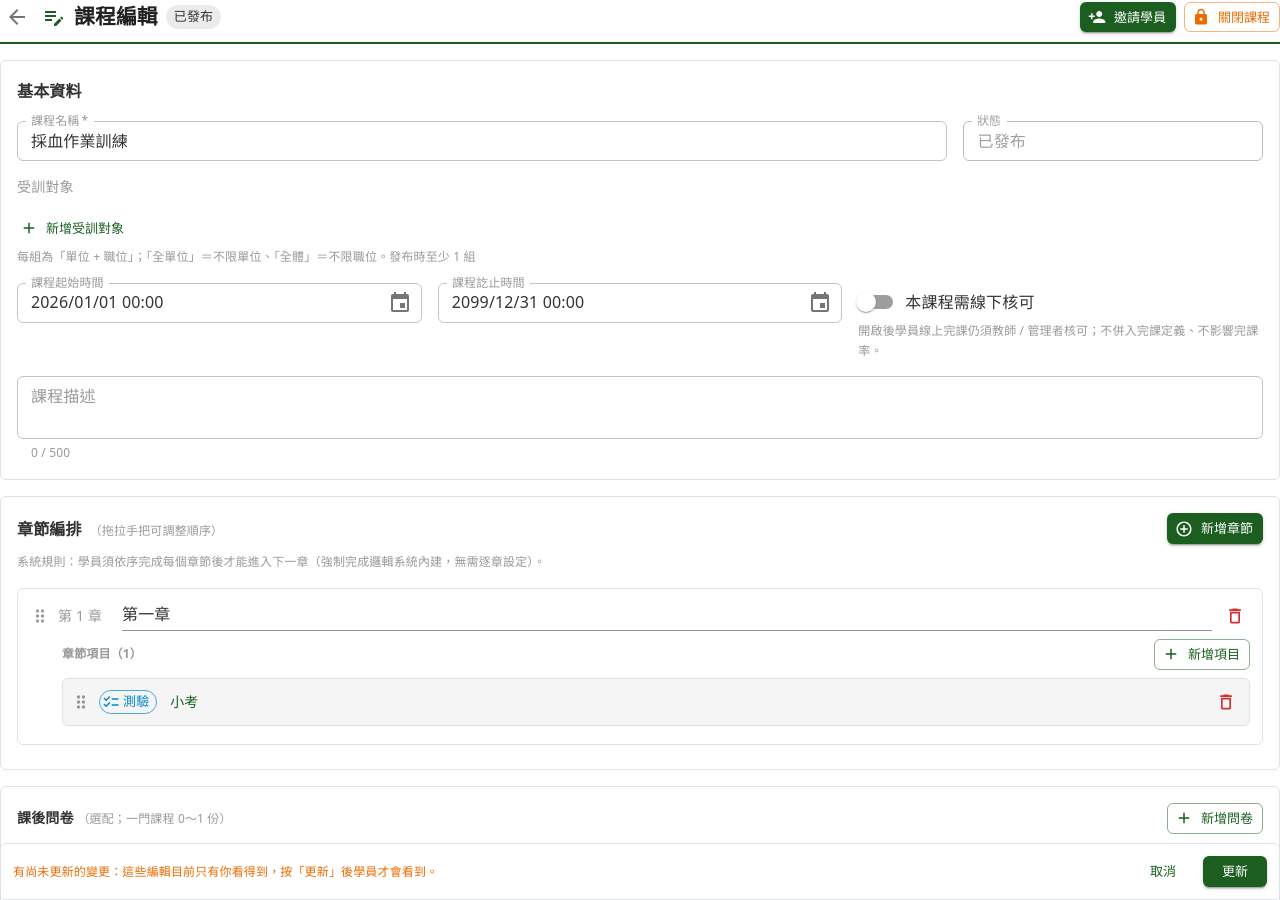
Scenario: 重測視窗對待生效要求的說明依儲存路徑而定（#767 A1） › 改題時：說明「僅儲存」不會取消，要到測驗設定
The image size is (1280, 900).
Click the button "小考" at (184, 701), box [165,688,1203,716]
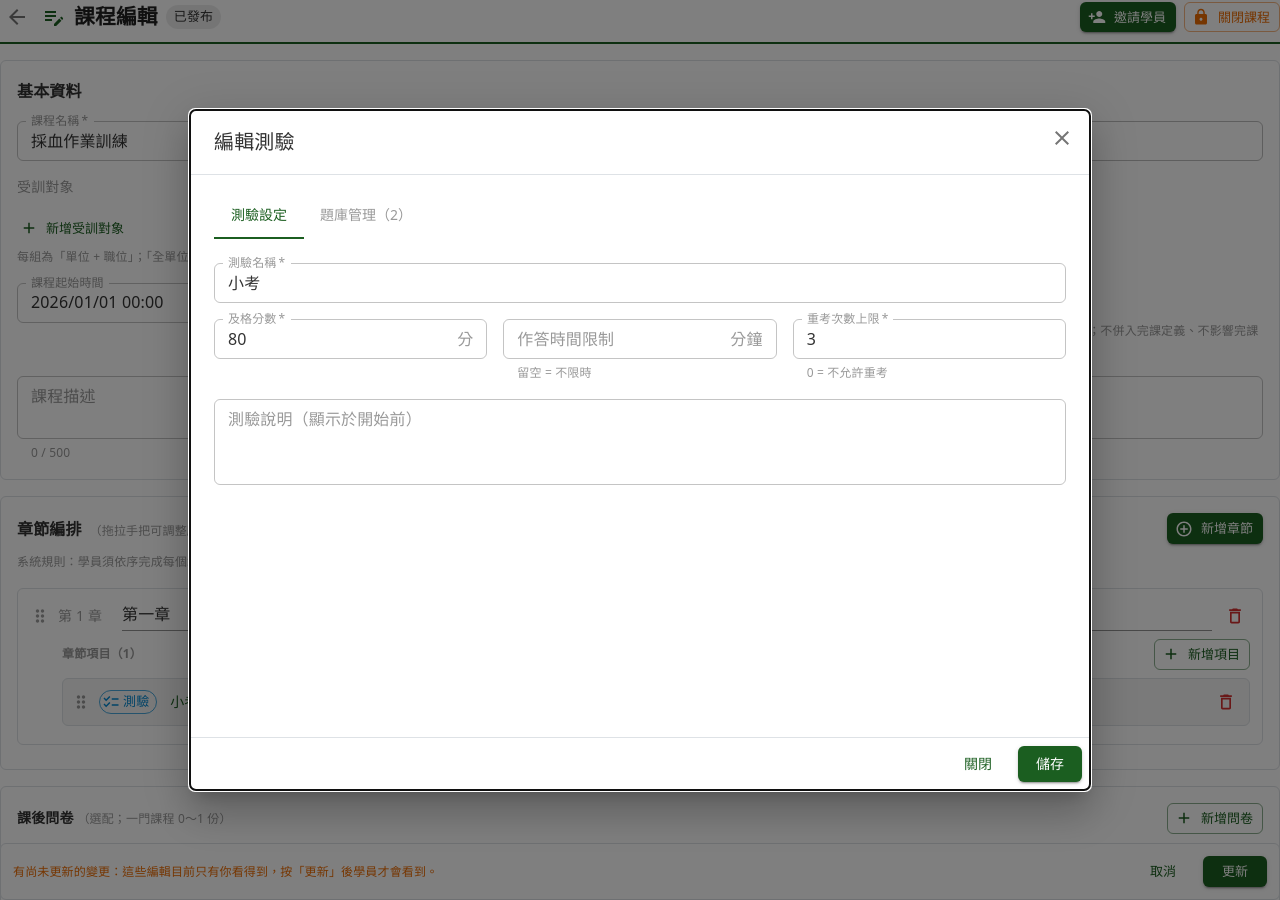
Click the tab "題庫管理（2）" at (366, 215), box [304,191,428,239]
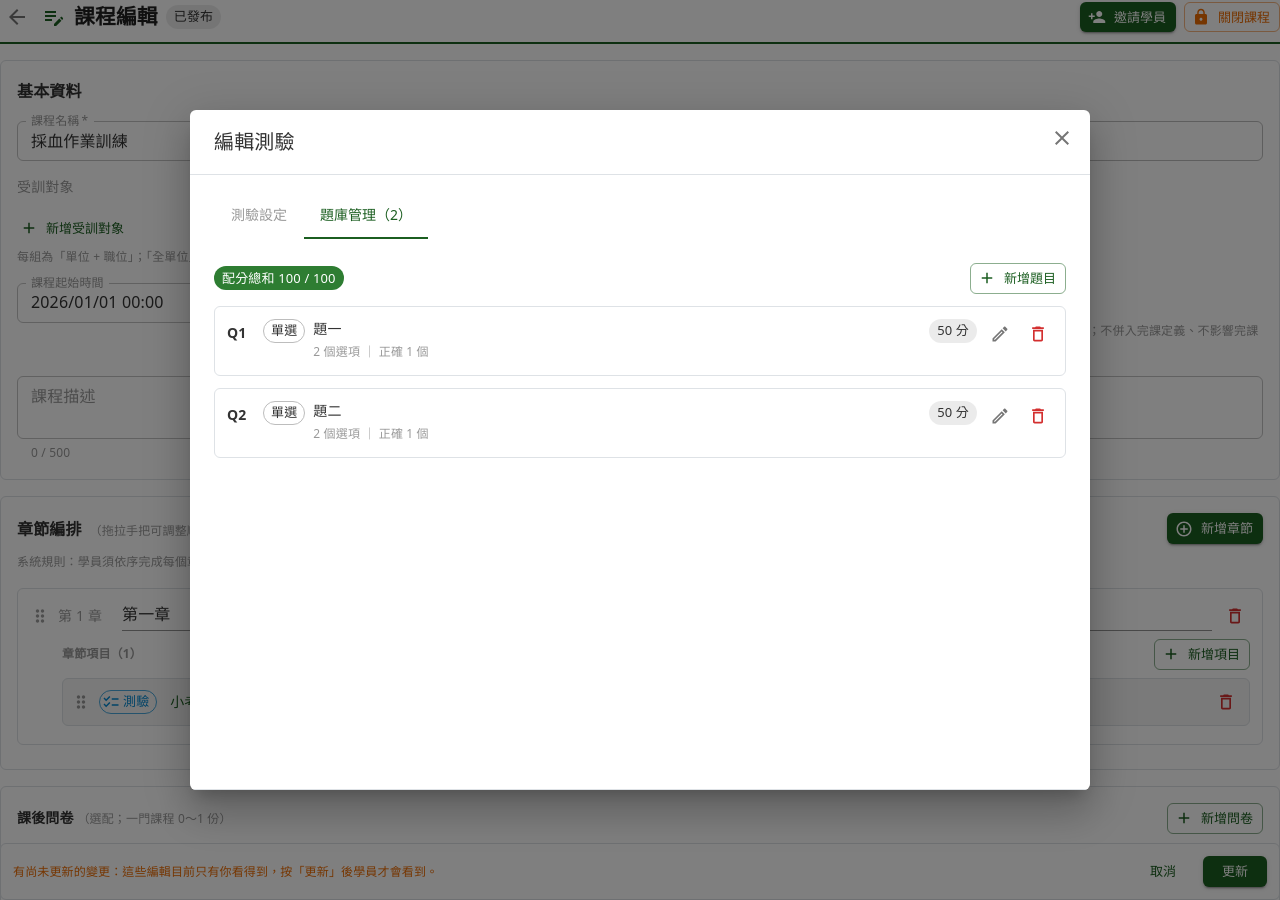
Click the button named "編輯第 1 題" at (1000, 334), box [985,319,1015,349]
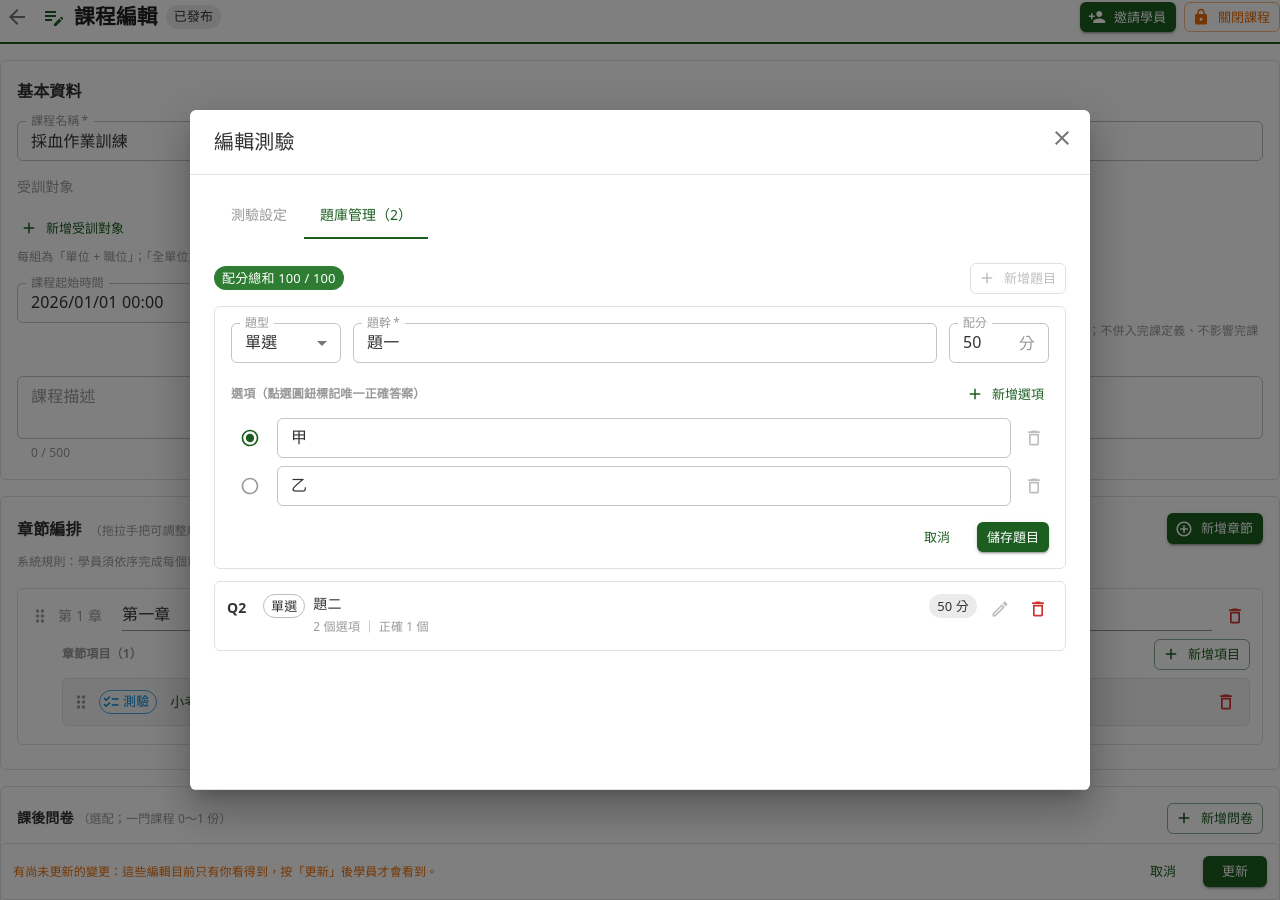
Click the button "儲存題目" at (1013, 537), box [977,522,1049,552]
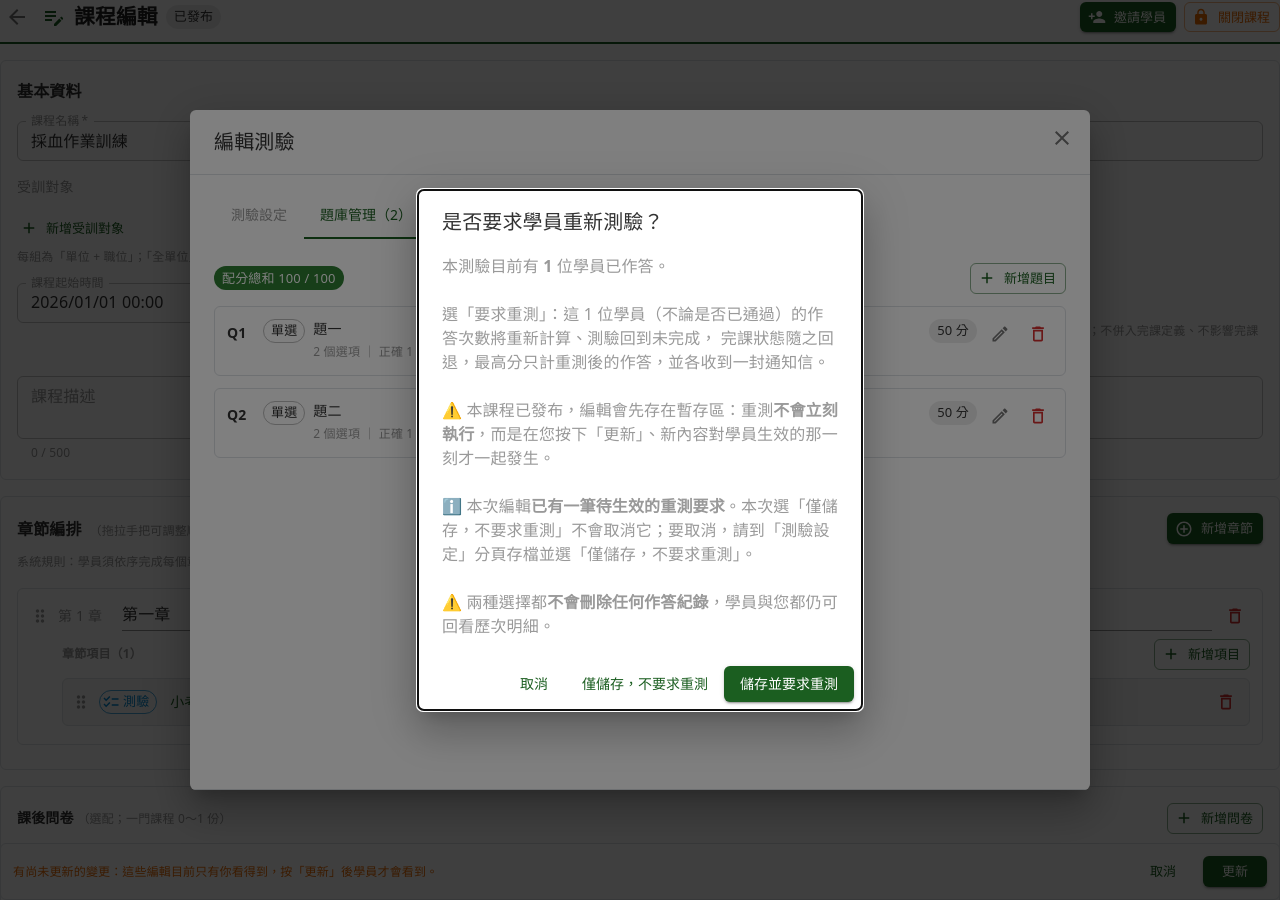
Expected: the dialog "是否要求學員重新測驗？" does not show "會把它一併取消", [418,190,862,710]
Expected: the dialog "是否要求學員重新測驗？" shows "不會取消它", [442,495,838,565]
